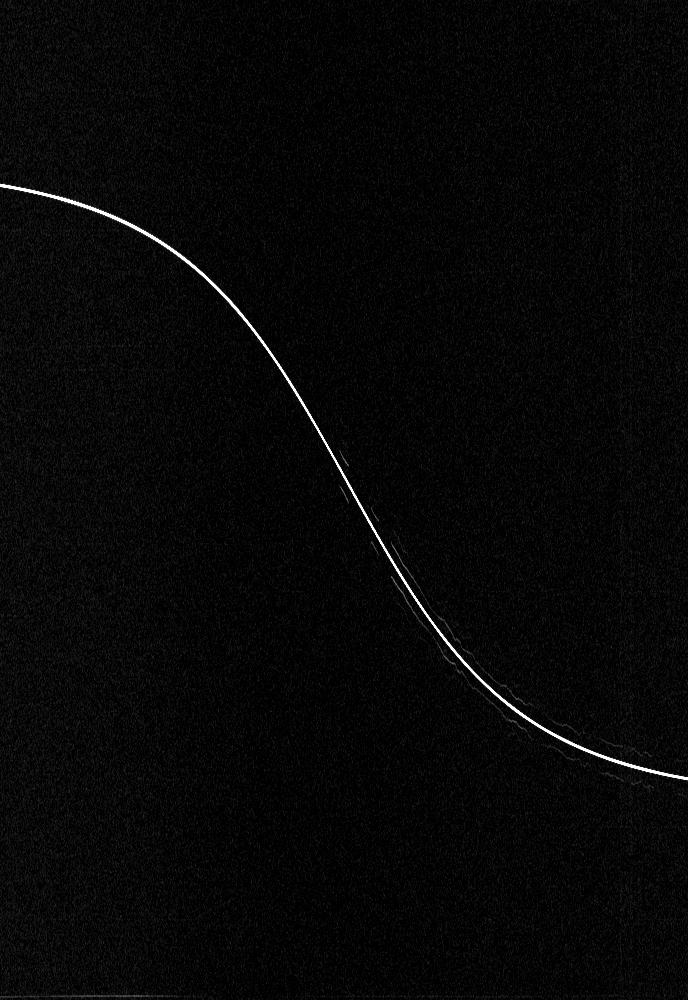signal: (0, 0, 687, 999)
